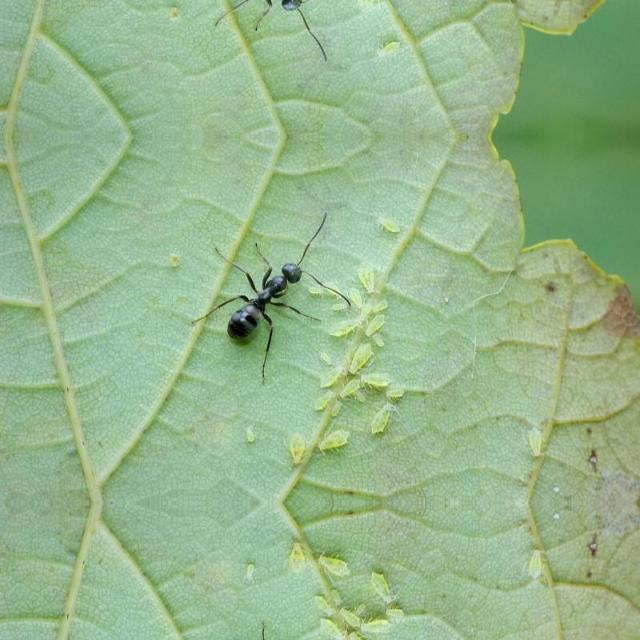Formica: (218, 235, 346, 369), (216, 0, 344, 36)
